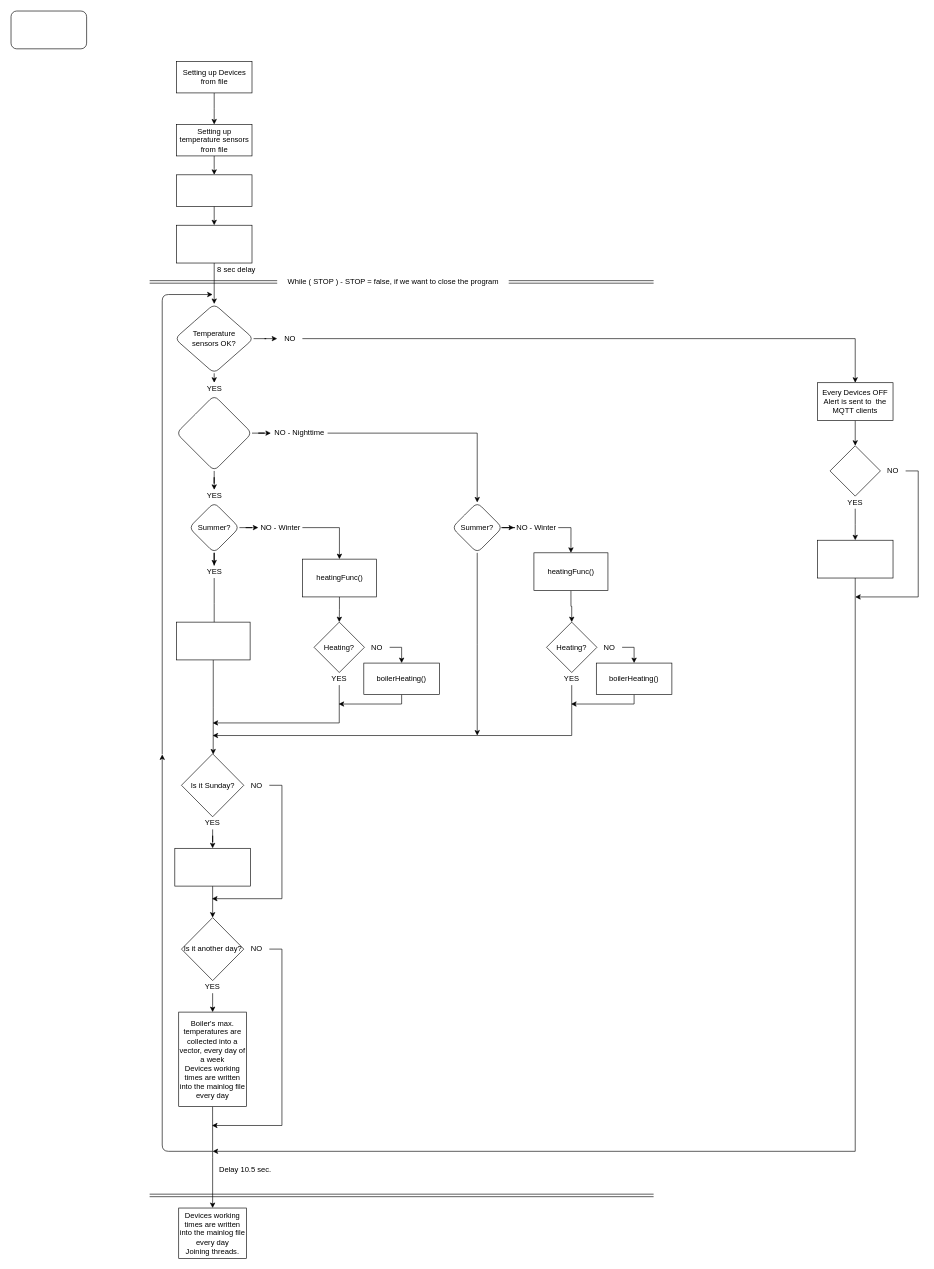
The diagram is 934 pixels wide and 1269 high, and some of its shapes have lost their labels. The shapes that lost their labels are listed below. From the top down, each one's centre as x and y in pixels, then its label:
[48,29]: BasicFunc()
[214,190]: Setting up extra values from file
[214,244]: Start setTempsThread() function
[214,433]: In the DAYTIME?
[854,470]: If RESET?
[855,559]: Reloading temperature sensor's file's path and other values from files
[213,640]: SolarFunc()
[212,867]: Write into a file the Boiler's max. temperatures vector
